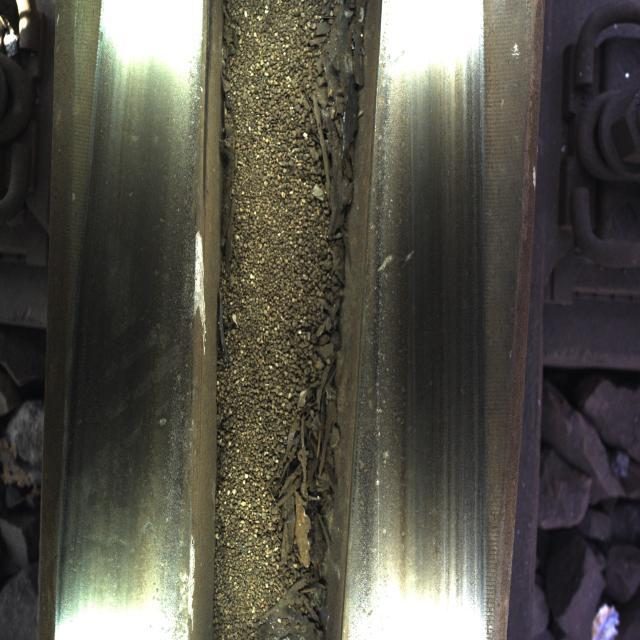normal: (99, 23, 208, 638), (381, 41, 475, 620)
